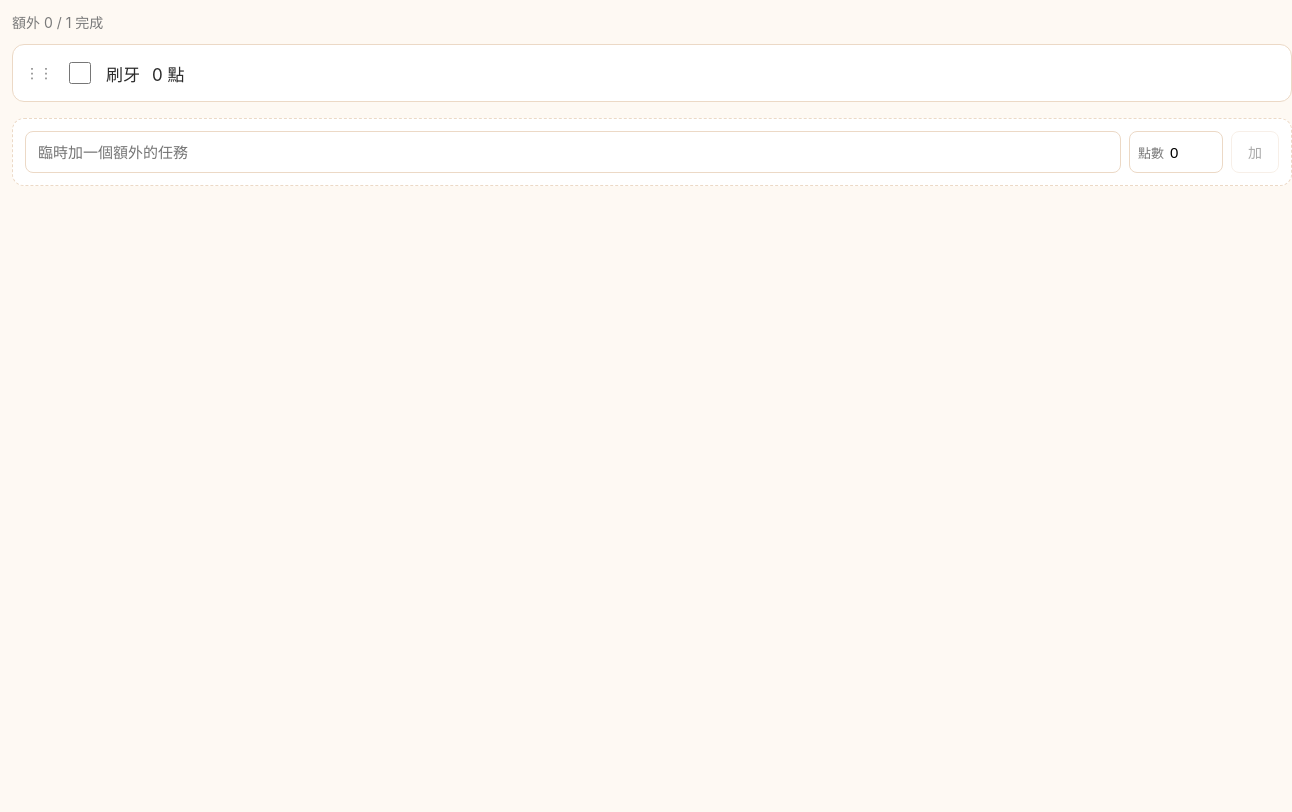
it: ExtraPage › shows all-done only on extra when extra list is complete
This screenshot has width=1292, height=812.
Step 1. Click the checkbox labelled "刷牙" → (80, 73), box [69,62,91,84]
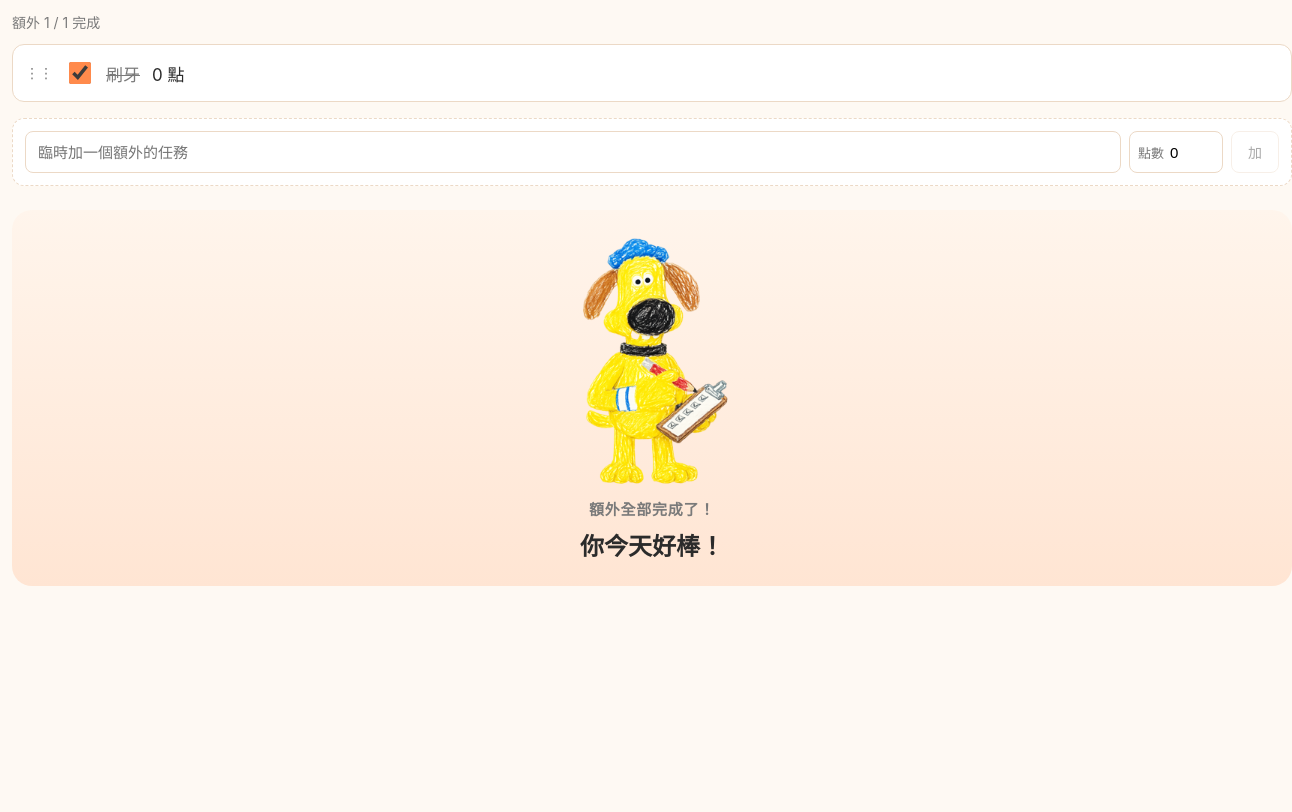
Expected: the picture with test id "all-done-character" is shown, [568,234,736,486]
